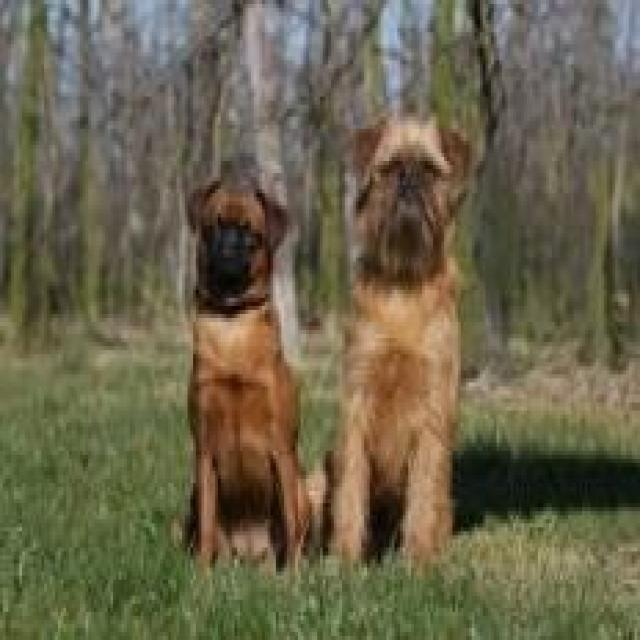Perro: (309, 108, 485, 580), (179, 165, 312, 568)
